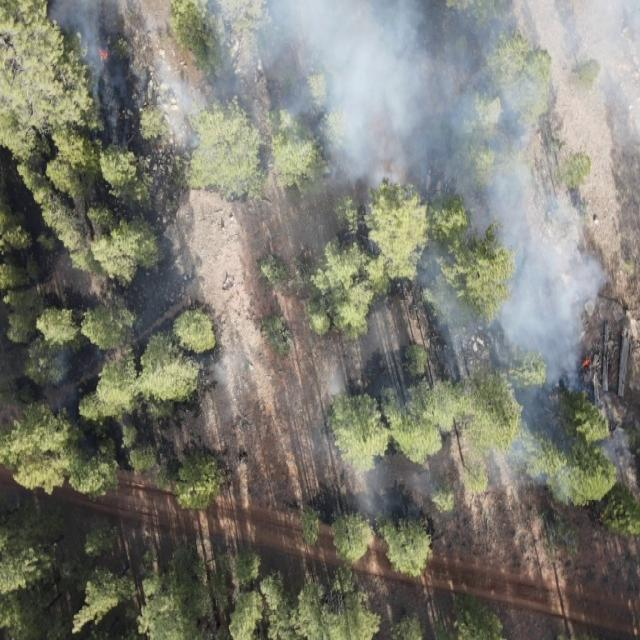fire: (580, 356, 594, 372), (98, 47, 110, 65)
smoke: (1, 0, 640, 195), (321, 195, 640, 524), (38, 340, 96, 400), (209, 350, 250, 388)
